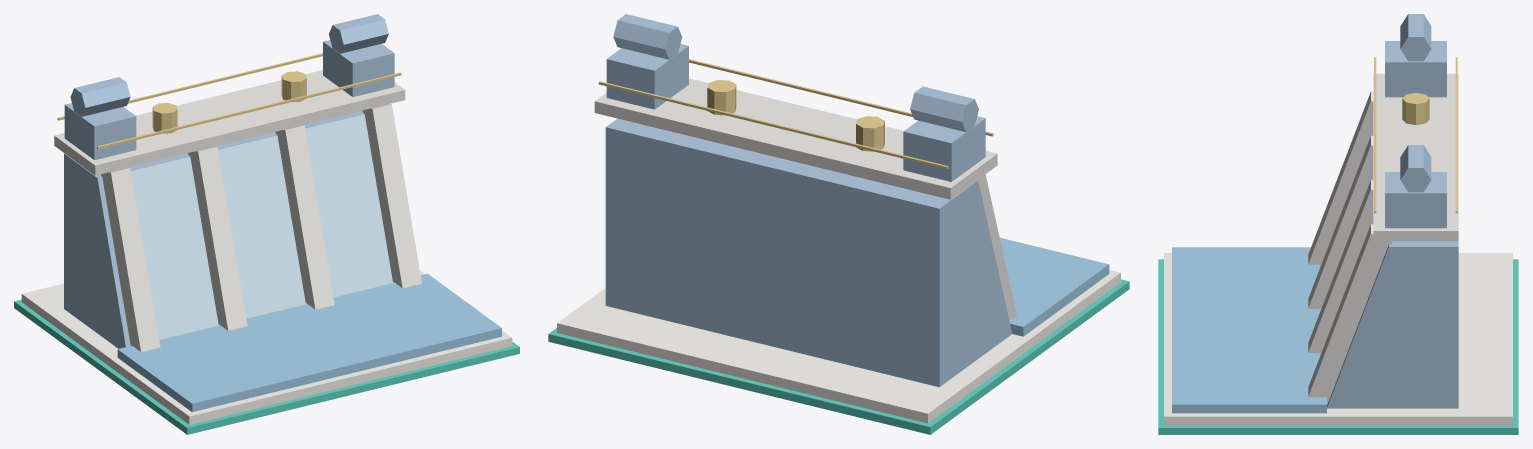
File: hydro_low.glb
The picture shows the model from 3 angles, left to right: view 1: azimuth 30°, elevation 25°; view 2: azimuth 150°, elevation 25°; view 3: azimuth 270°, elevation 25°; orthographic projection. The views are drawn at different scales.
Visible parts, largest first — view 1: concrete, water, water_deep, dam, base, rim_1fa98a, rail; view 2: dam, base, concrete, rim_1fa98a, water_deep, rail; view 3: dam, water_deep, concrete, base, rim_1fa98a, rail.
Boxes of the visible parts, <box> form: concrete: <box>54,70,421,352</box>; water: <box>130,114,392,339</box>; water_deep: <box>117,273,501,412</box>; dam: <box>64,14,394,348</box>; base: <box>21,270,512,424</box>; rim_1fa98a: <box>14,299,519,434</box>; rail: <box>57,53,401,149</box>; dam: <box>605,14,1012,387</box>; base: <box>557,270,1120,423</box>; concrete: <box>594,78,1016,320</box>; rim_1fa98a: <box>548,279,1129,434</box>; water_deep: <box>1000,237,1109,336</box>; rail: <box>598,59,993,169</box>; dam: <box>1327,14,1458,408</box>; water_deep: <box>1172,247,1326,413</box>; concrete: <box>1308,73,1458,404</box>; base: <box>1164,253,1512,425</box>; rim_1fa98a: <box>1158,259,1518,434</box>; rail: <box>1374,57,1457,213</box>.
Bounding box in the file's own units: 10.3 × 7.4 × 9.3.
